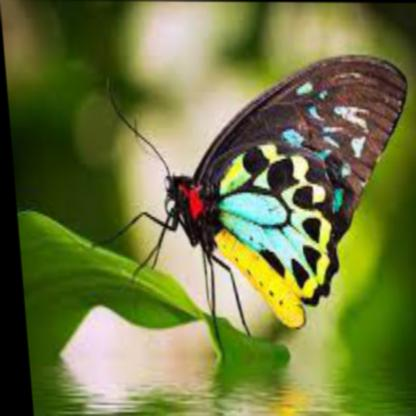Butterfly: (86, 49, 415, 348)
